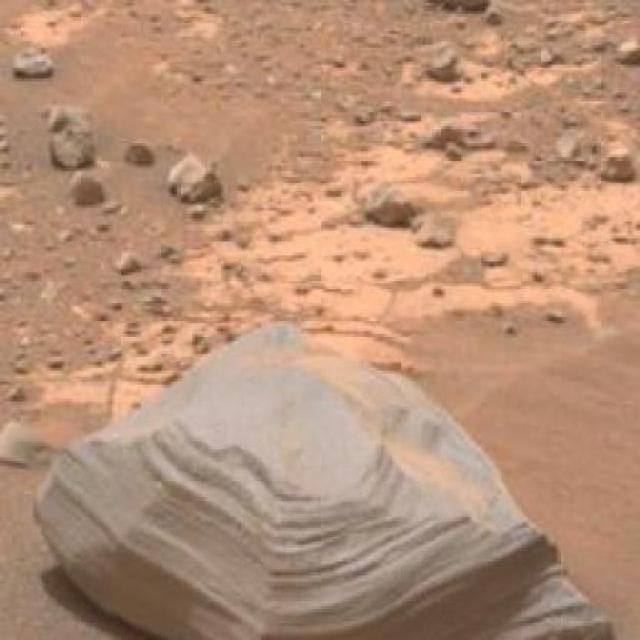rock: (27, 317, 625, 637), (422, 0, 495, 20)
